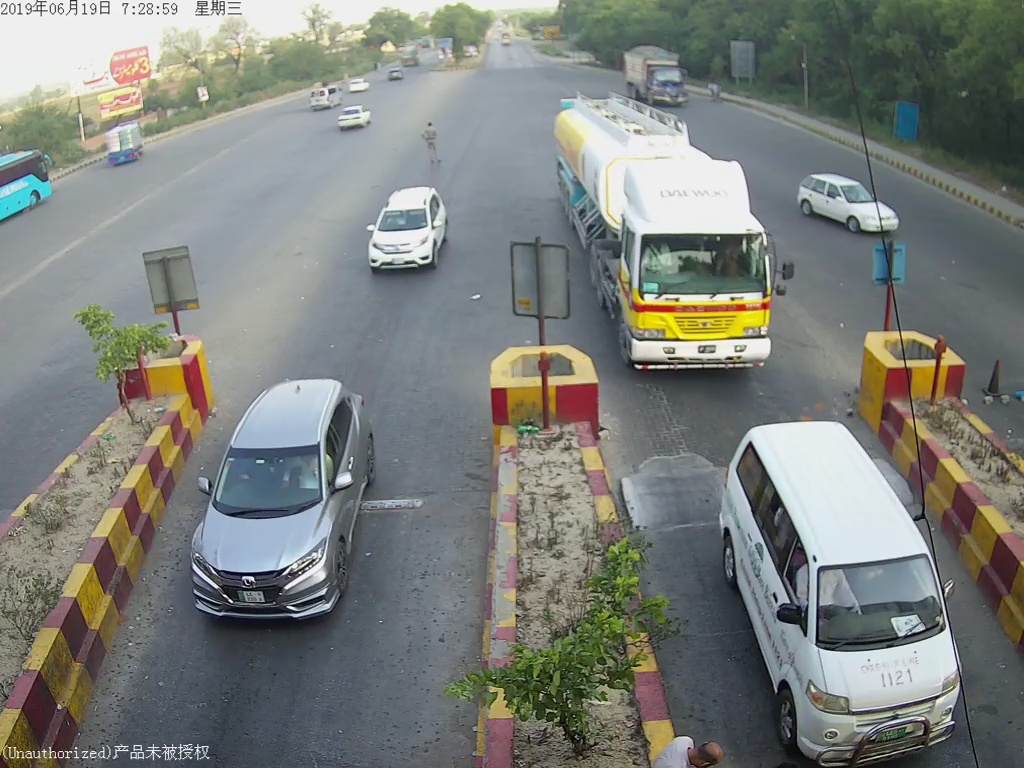Cat-1: (734, 403, 993, 760), (190, 378, 384, 624), (353, 191, 462, 286)
Cat-5: (550, 94, 791, 369)
